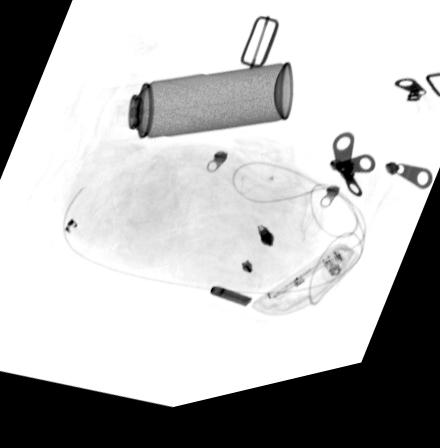Sprayer: (90, 73, 295, 149)
